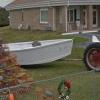Boat: (3, 29, 78, 67)
